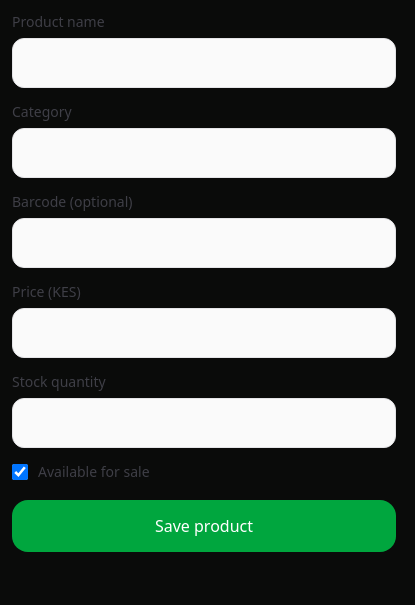
Test case: ProductForm › shows a validation error and does not submit when priceKES is negative
The image size is (415, 605).
Type "Cooking Oil 1L" into the field labelled "Product name".
click(204, 63); type("Cooking Oil 1L")  # box [12,38,396,88]
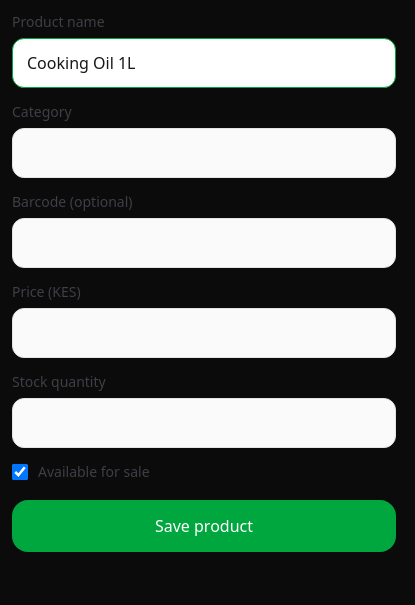
Type "-5" into the field labelled "Price (KES)".
click(204, 333); type("-5")  # box [12,308,396,358]
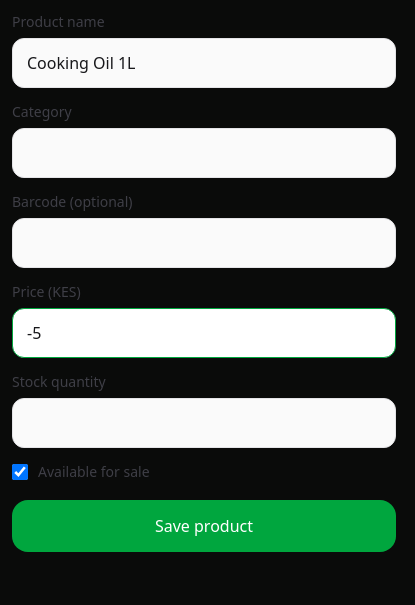
Type "15" into the field labelled "Stock quantity".
click(204, 423); type("15")  # box [12,398,396,448]
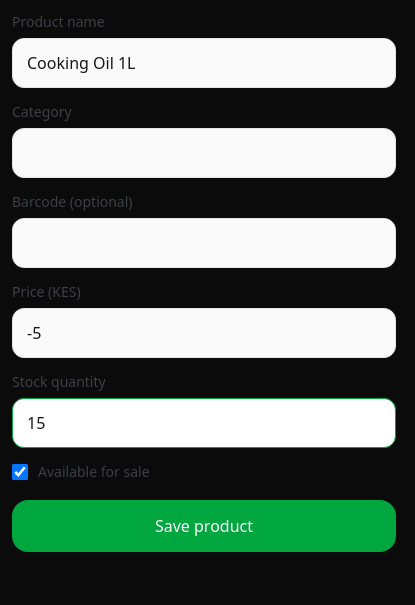
Click the button "Save product".
click(204, 526)  # box [12,500,396,552]
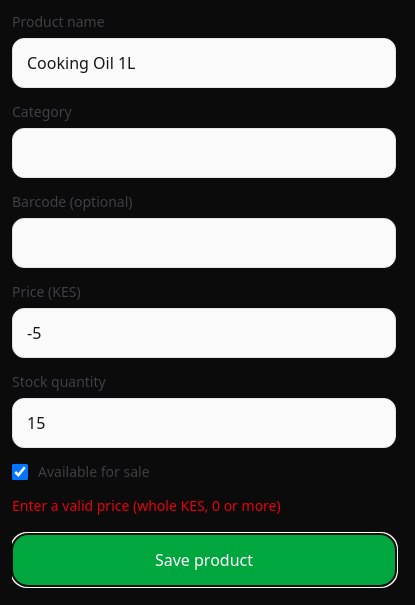
Now the message shows "valid price", box [12,496,281,515]
